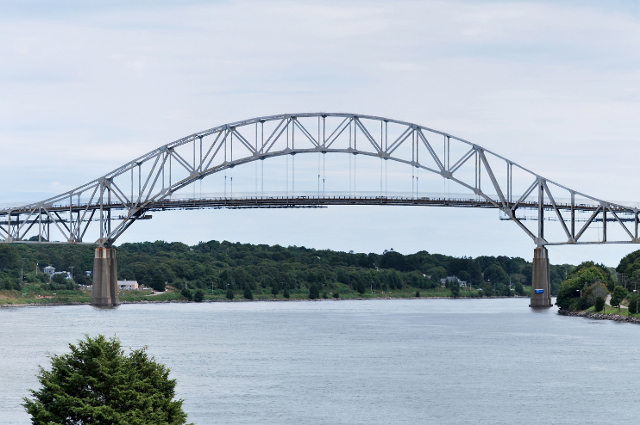bridge: (1, 111, 640, 250)
